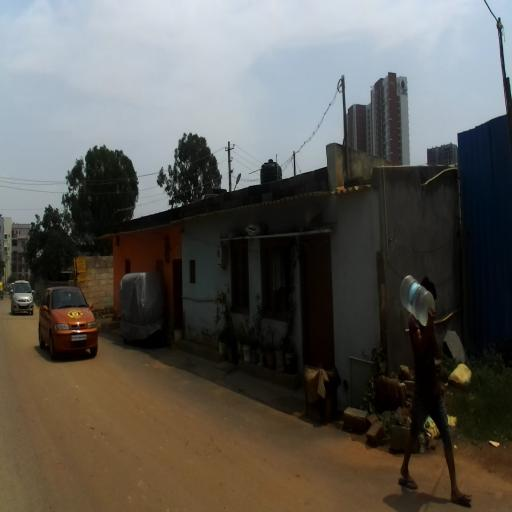street_light_0: (233, 172, 241, 192)
